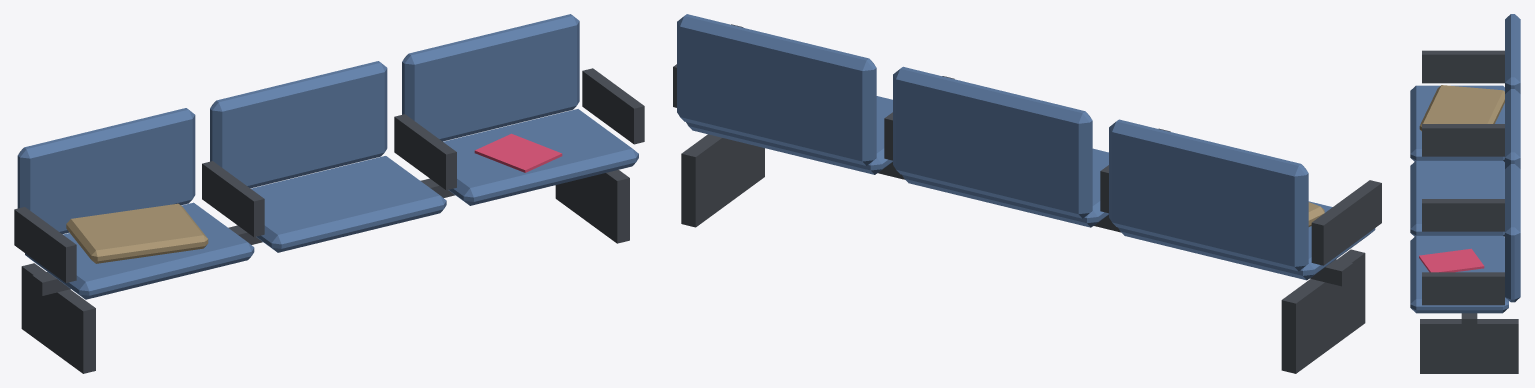
The model's file is waiting_bench.glb.
The picture shows the model from 3 angles, left to right: view 1: azimuth 30°, elevation 25°; view 2: azimuth 150°, elevation 25°; view 3: azimuth 270°, elevation 25°; orthographic projection. The views are drawn at different scales.
Parts seen in each view (by area): view 1: waiting_bench_mesh; view 2: waiting_bench_mesh; view 3: waiting_bench_mesh.
Boxes of the visible parts, x1,y1,x2,y2 form: waiting_bench_mesh: [14, 14, 644, 373]; waiting_bench_mesh: [673, 14, 1381, 373]; waiting_bench_mesh: [1410, 14, 1520, 373].
Bounding box in the file's own units: 2.71 × 0.82 × 0.56.
